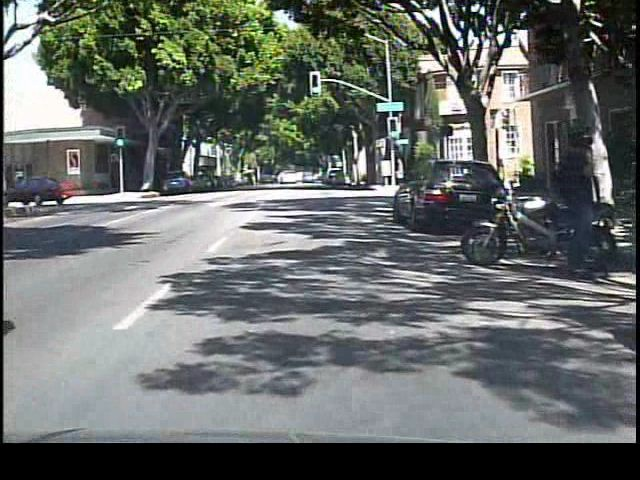person: (548, 127, 600, 286), (390, 155, 407, 191)
